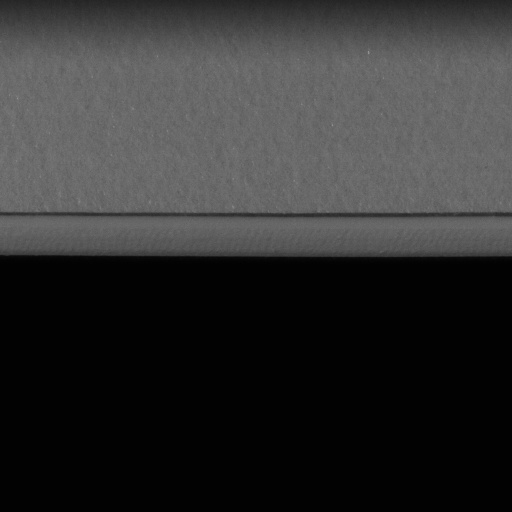jiaofeng: (0, 209, 511, 226)
